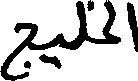ا: (127, 0, 137, 53)
ج: (0, 21, 36, 79)
خ: (87, 0, 121, 45)
ل: (76, 0, 86, 50), (101, 0, 119, 27)
ي: (39, 31, 62, 69)
